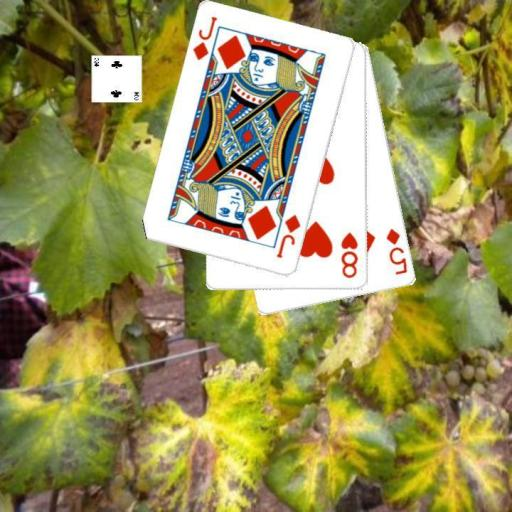card-corner: (273, 211, 303, 260), (190, 14, 219, 62), (383, 226, 410, 276), (338, 229, 360, 279)
